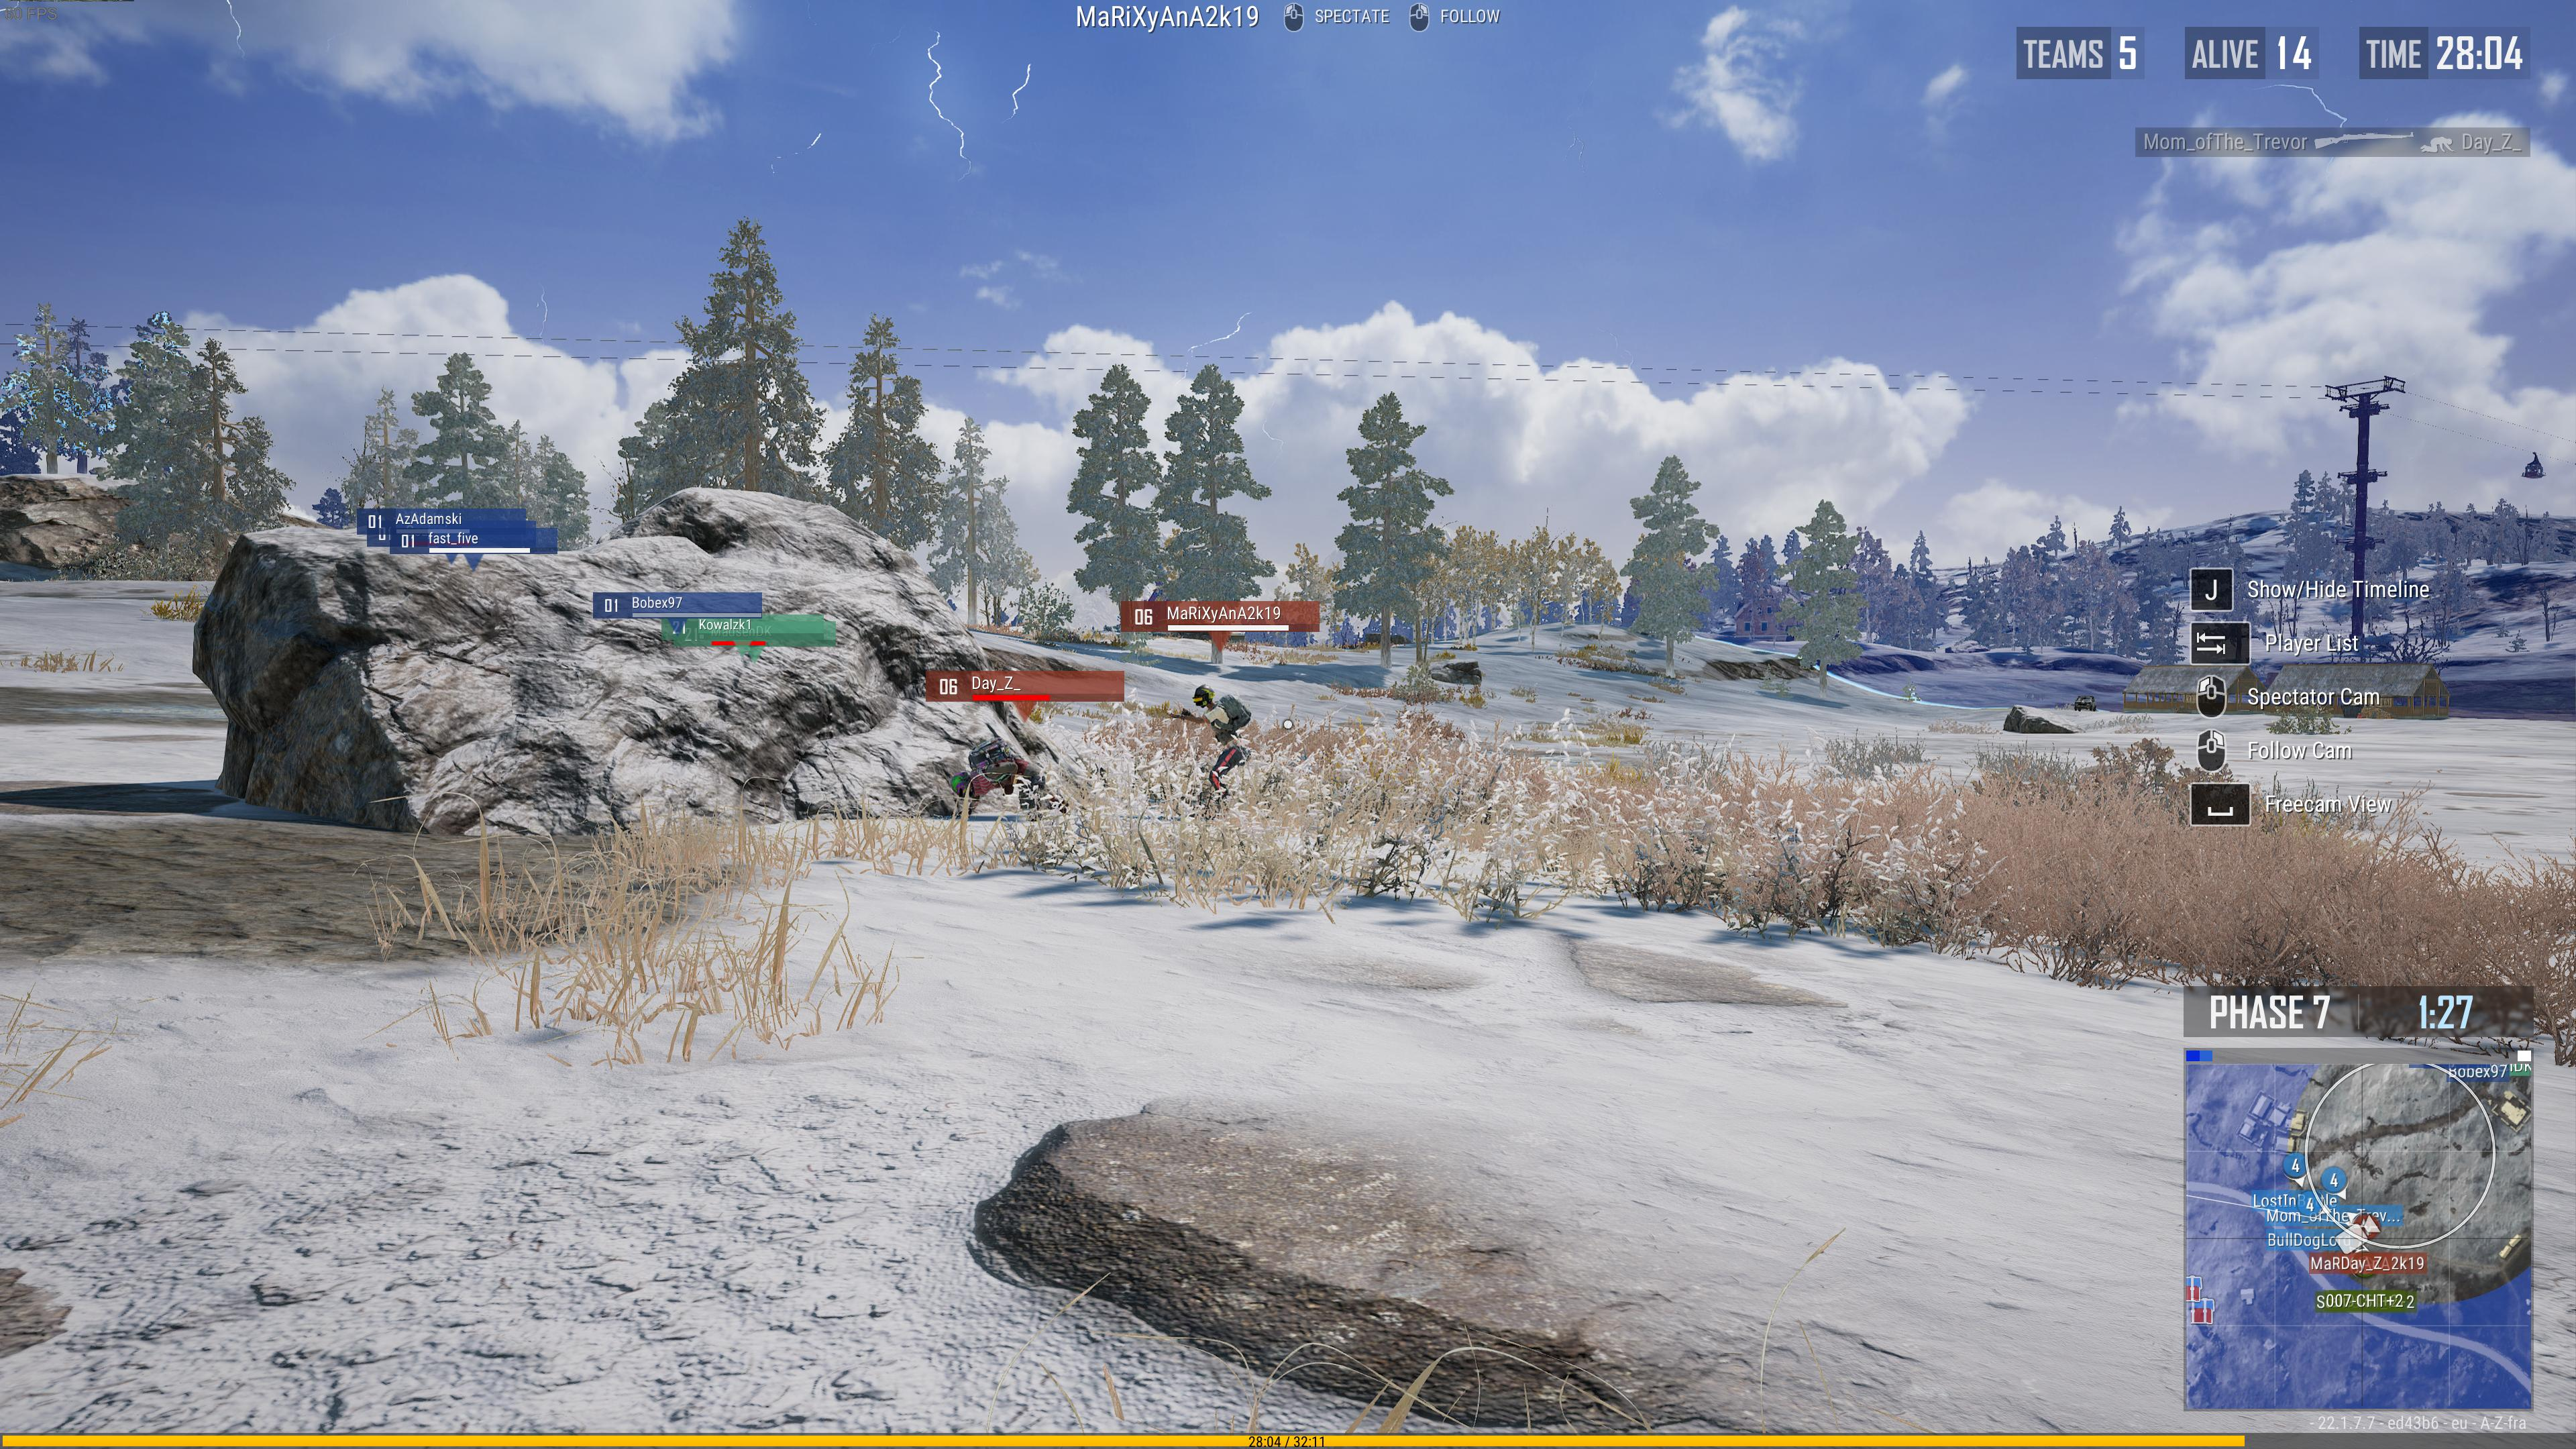enemy: (1166, 683, 1253, 810), (950, 750, 1069, 816)
enemy_head: (1191, 683, 1215, 708), (950, 771, 973, 798)
